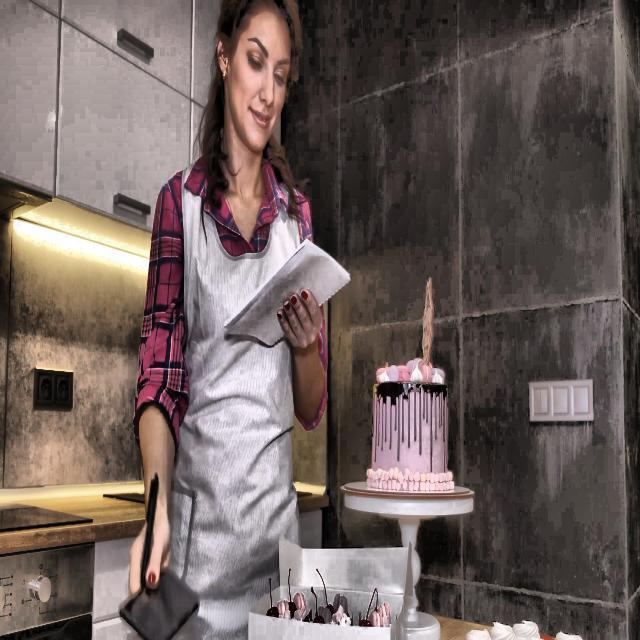Phone: (118, 566, 200, 640)
